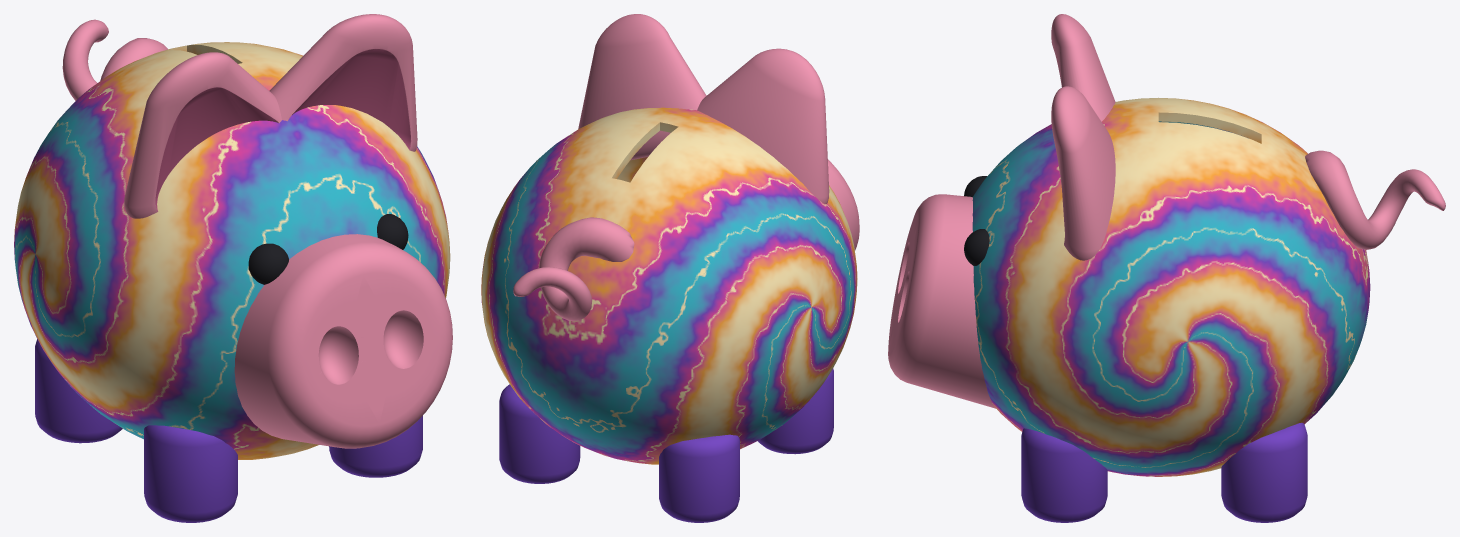
The model's file is tiedye-og-v1-complete.fbx.
3 renders of one model, left to right at view 1: azimuth 30°, elevation 25°; view 2: azimuth 150°, elevation 25°; view 3: azimuth 270°, elevation 25°, orthographic. The views are drawn at different scales.
Visible parts, largest first — view 1: Body, Snout, Ears, Legs, Tail, EyePreview; view 2: Body, Ears, Legs, Tail, Snout; view 3: Body, Snout, Legs, Ears, Tail, EyePreview.
Part boxes in pixels (x1,y1,x2,y2): Body: (14,42,450,459); Snout: (234,234,452,448); Ears: (124,14,417,218); Legs: (35,339,422,522); Tail: (62,19,167,100); EyePreview: (248,214,408,284); Body: (481,107,857,464); Ears: (578,14,829,203); Legs: (499,368,833,522); Tail: (513,217,634,321); Snout: (828,159,859,250); Body: (972,97,1370,476); Snout: (888,194,996,408); Legs: (1021,422,1307,522); Ears: (1051,14,1115,260); Tail: (1305,150,1445,249); EyePreview: (964,176,989,265).
Bounding box in the file's own units: 1200 × 1397 × 1708.
3 materials, 2 textured.
